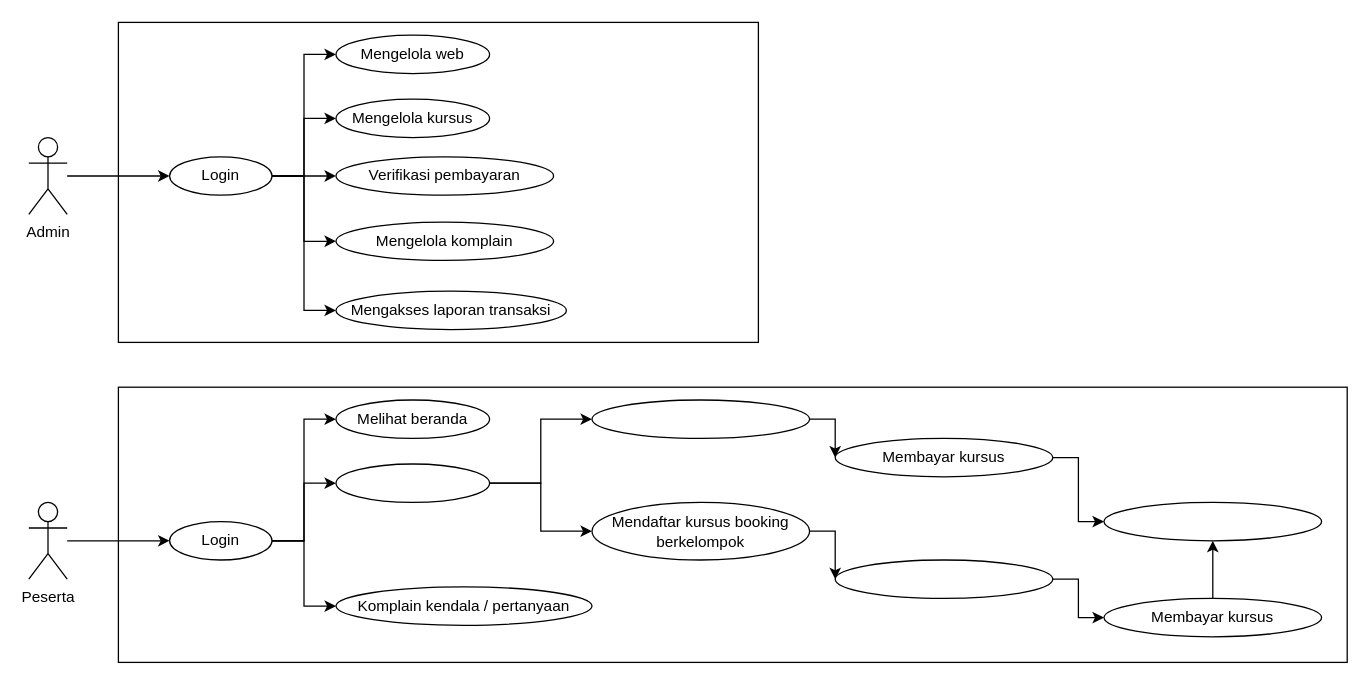
Image size: 1370x685. Some labels were removed from this diagram. The centre of each missing label's shape, as x and y in pixels:
"konfirmasi pemesanan" goes at [1212,521].
"Melihat kursus" goes at [412,482].
"Mendaftar kursus mandiri" goes at [700,418].
"Mengisi data peserta" goes at [943,578].
